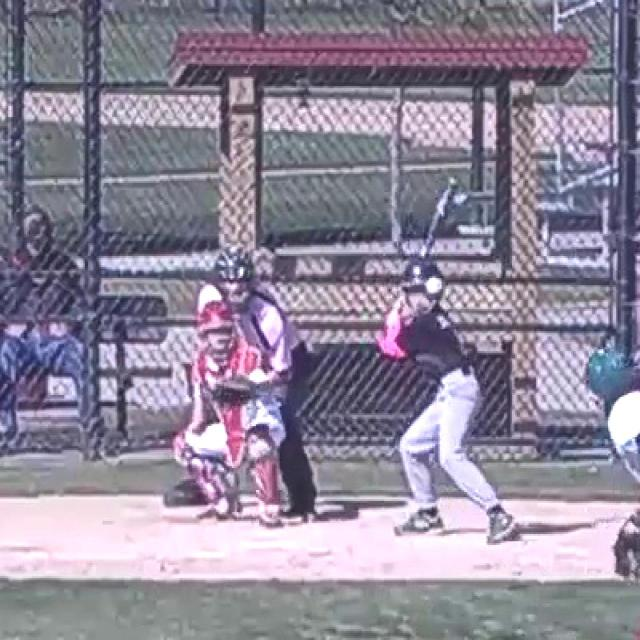baseball: (427, 278, 441, 292)
